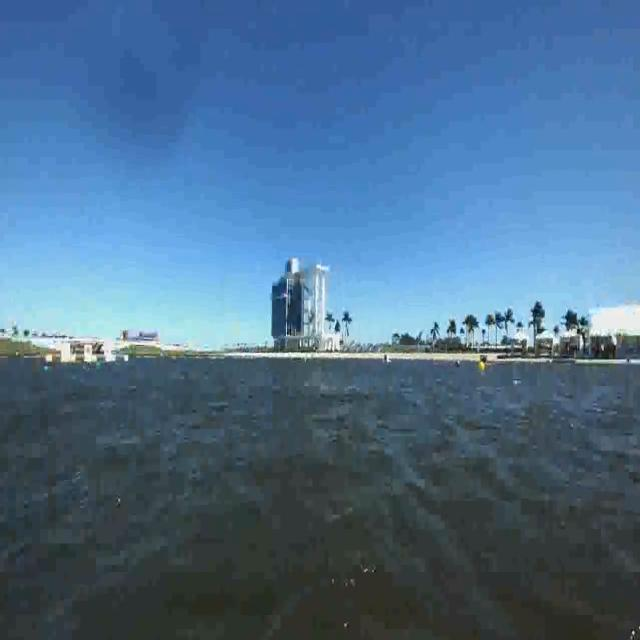yellow-buoy: (480, 360, 488, 372)
